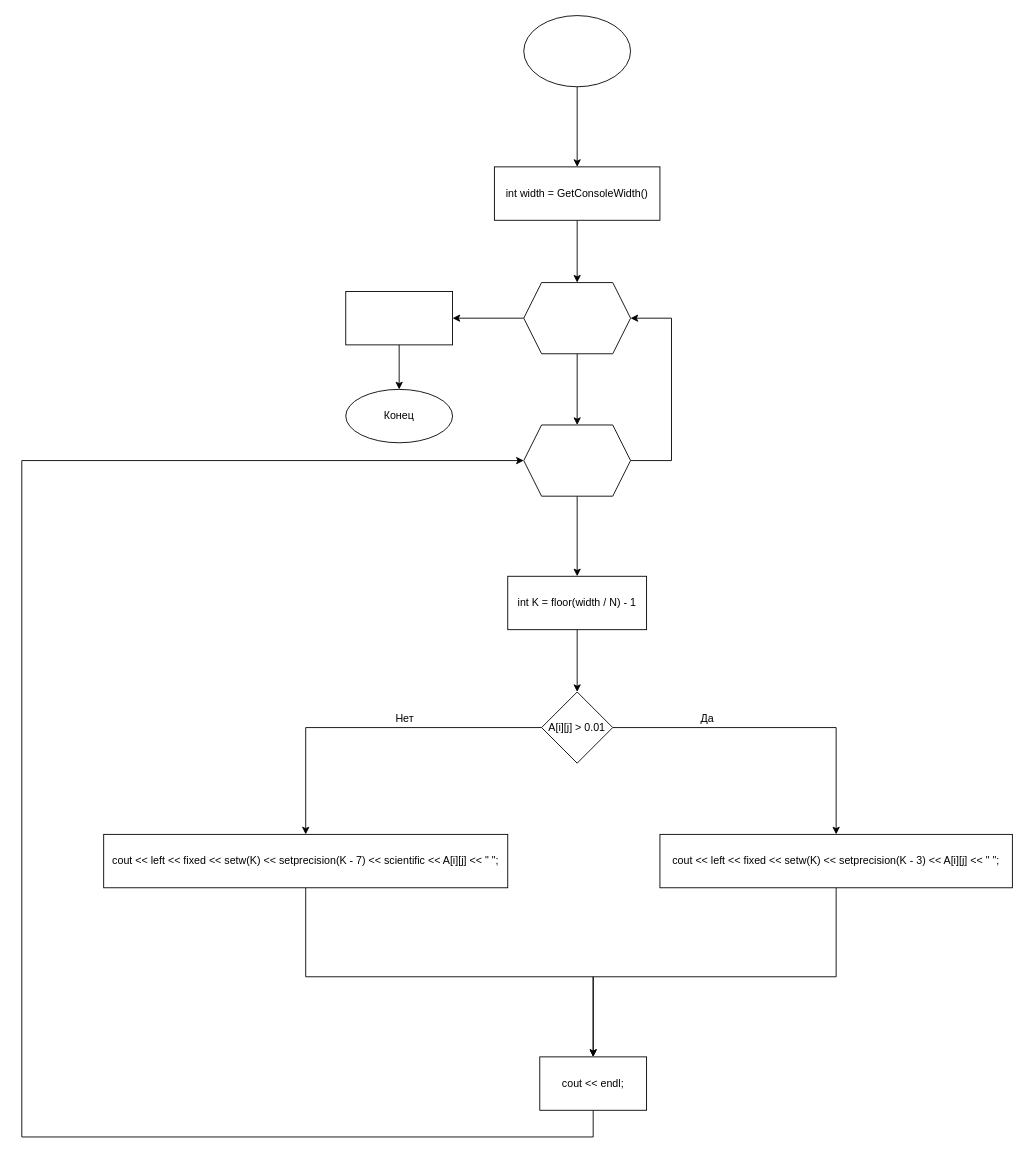
Image size: 1028x1160. Some labels were removed from this diagram. The box of each missing label's shape, as (x1, y1, x2, y2) in pixels:
cout << "\n\n\n";: (345, 291, 453, 345)
int i = 1; i < N; i++: (523, 282, 631, 354)
int j = 1; j < N; j++: (523, 424, 631, 496)
Начало: (523, 15, 631, 87)
